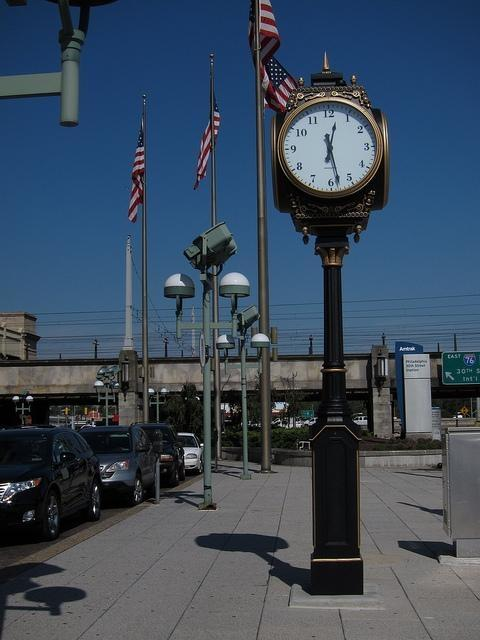car: (2, 428, 104, 539), (76, 426, 160, 506), (132, 422, 184, 480), (179, 432, 205, 470), (351, 416, 368, 426), (302, 418, 318, 427), (271, 418, 288, 424)
